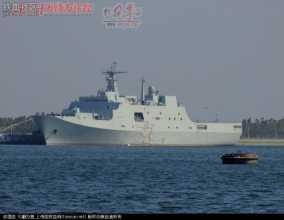otherboat: (221, 149, 258, 167)
warship: (33, 68, 253, 148)
